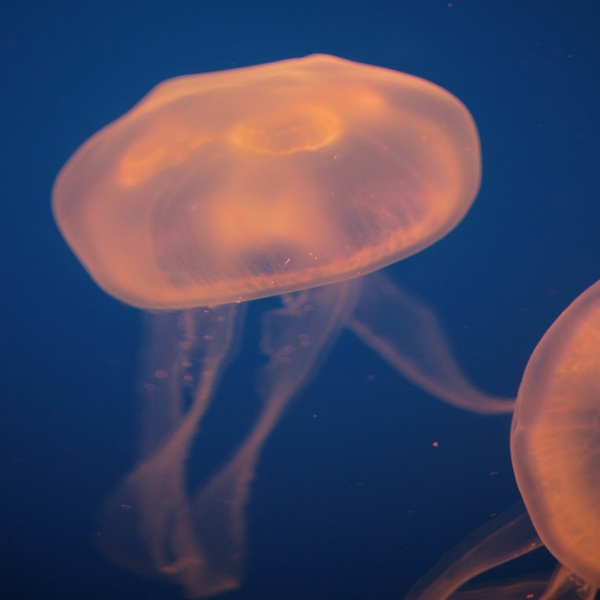Jellyfish: (42, 47, 518, 599), (409, 277, 599, 599)
